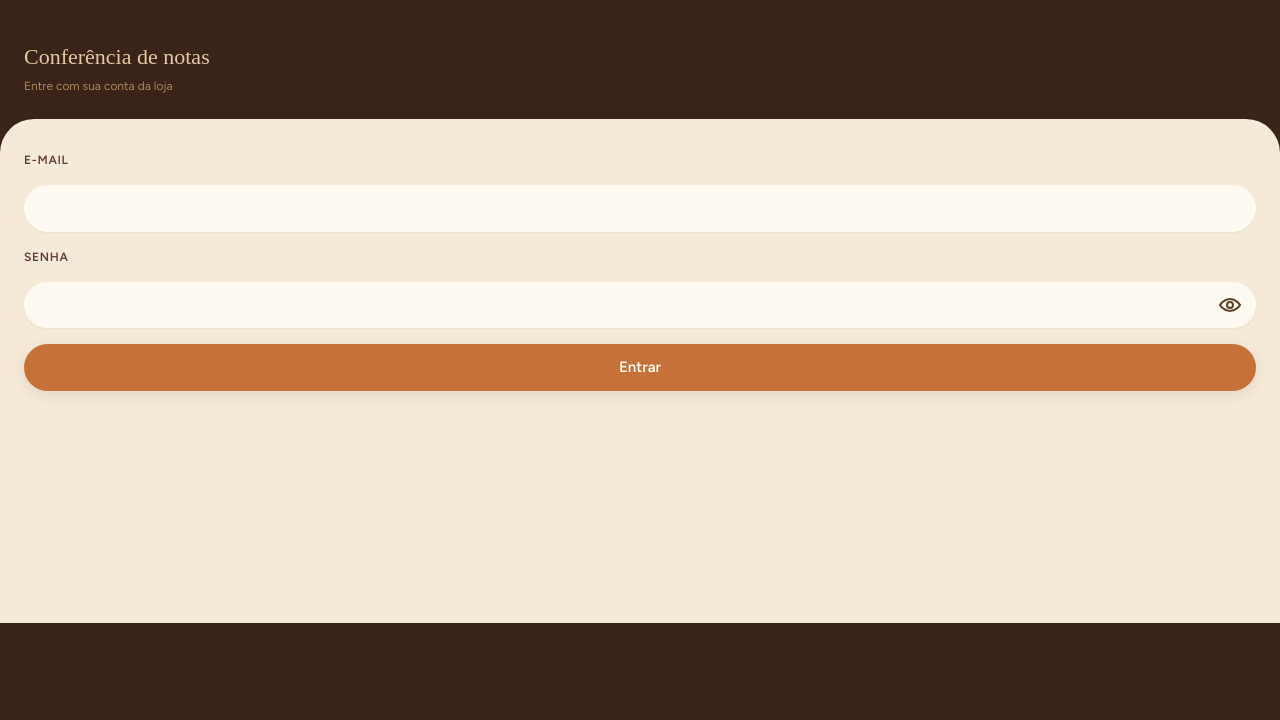
Test: SessionProvider › 401 de senha errada mostra só o erro de credencial, sem falar em expiração
Type "marina@cacau.com" into the field labelled "E-mail". click: (640, 208)
box: [24,185,1256,232]
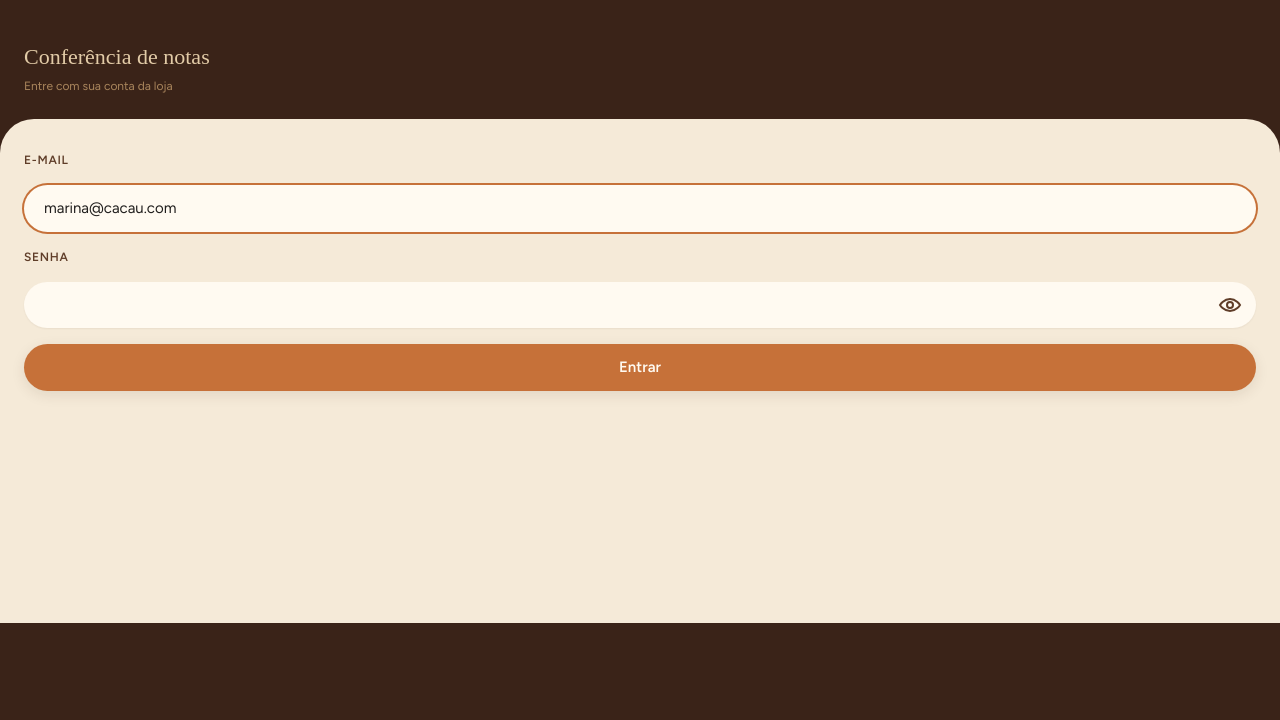
Type "senha-errada" into the password field labelled "Senha". click: (640, 305)
box: [24,282,1256,328]
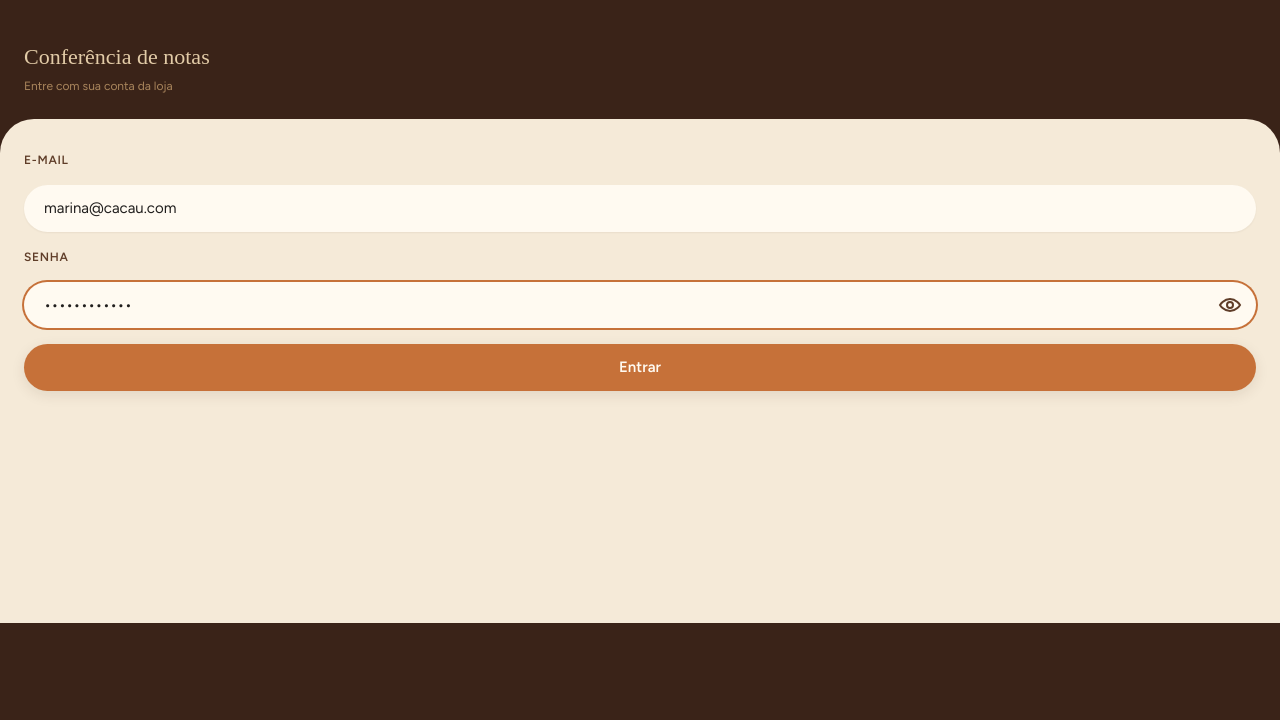
Click the button "Entrar". click: click(640, 367)
box: [24,344,1256,390]
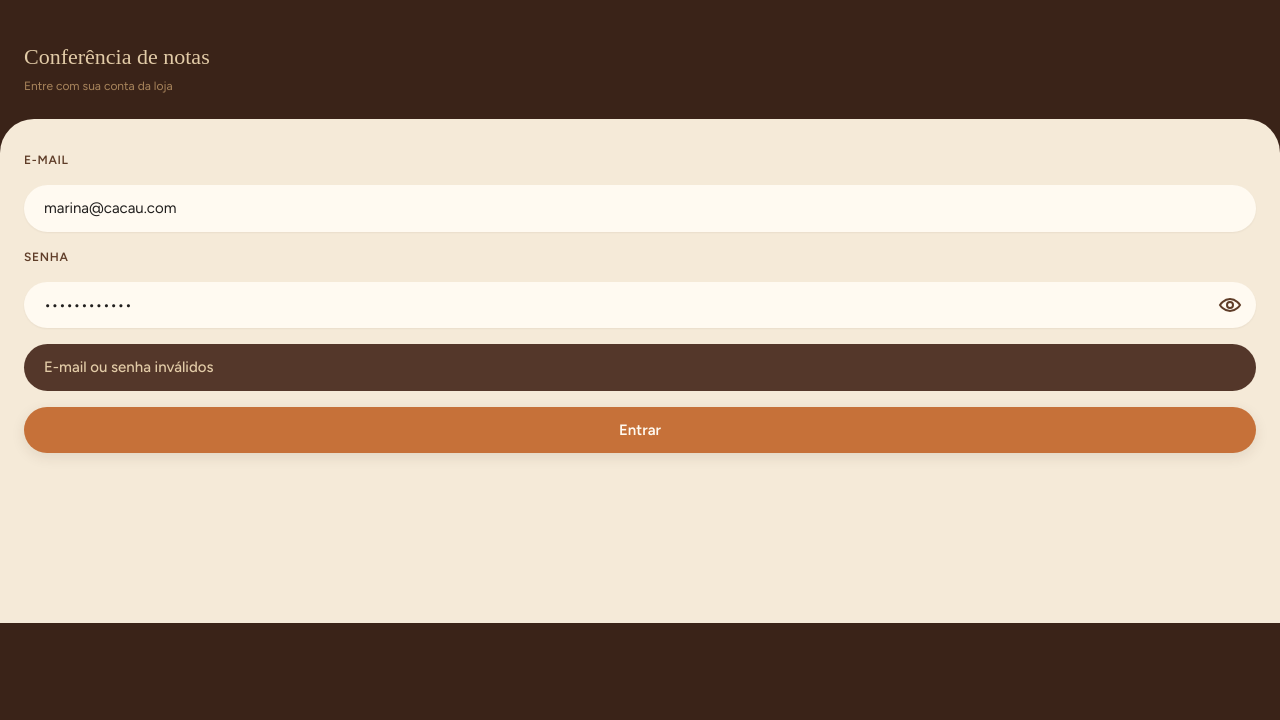
Check: the text "E-mail ou senha inválidos" is shown, box [24,344,1256,390]
